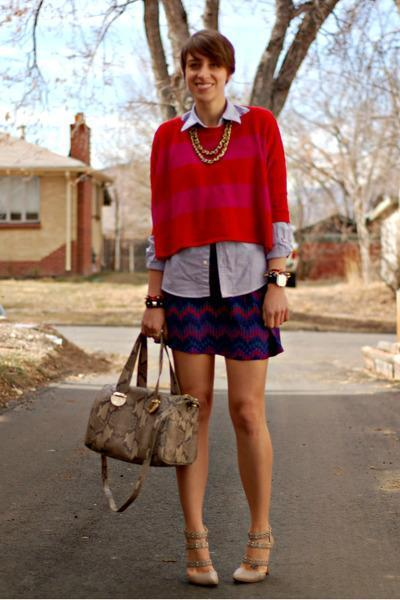bag: (85, 324, 198, 467)
jacket: (150, 98, 288, 264)
shirt: (162, 101, 298, 297), (209, 252, 219, 285)
shoe: (172, 516, 275, 581)
skirt: (146, 276, 282, 361)
